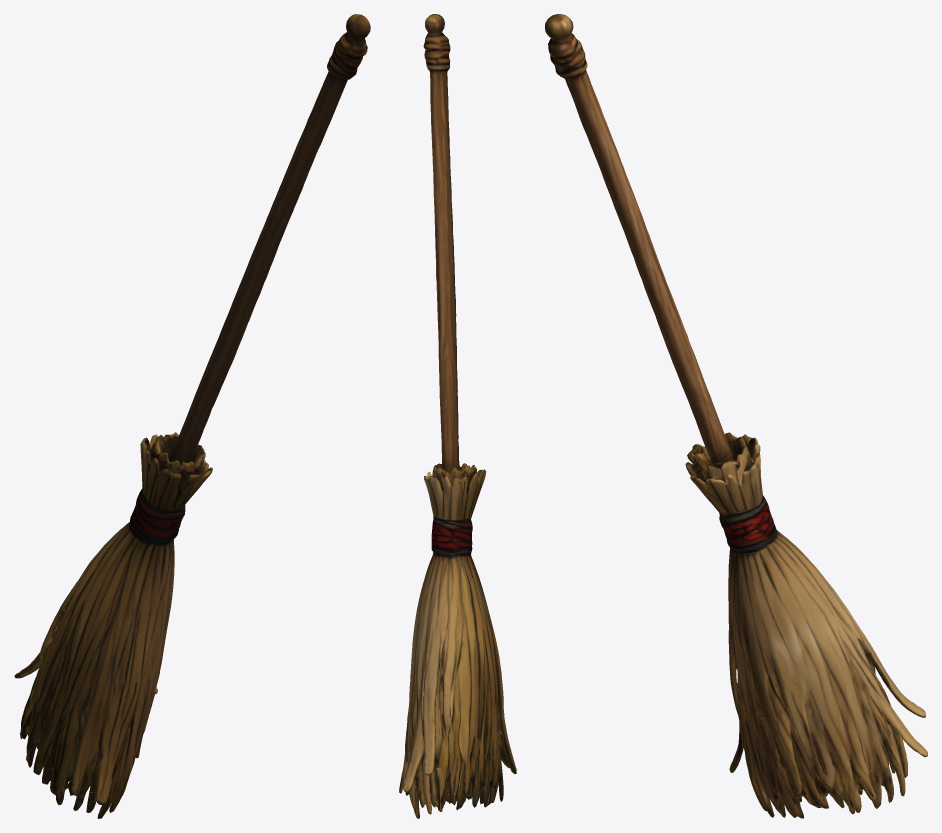
The model's file is _prop.glb.
3 renders of one model, left to right at view 1: azimuth 30°, elevation 25°; view 2: azimuth 150°, elevation 25°; view 3: azimuth 270°, elevation 25°, orthographic. The views are drawn at different scales.
Parts seen in each view (by area): view 1: tripo_node_ccb599f6-f036-4ab5-ad4c-23dc5c83a912; view 2: tripo_node_ccb599f6-f036-4ab5-ad4c-23dc5c83a912; view 3: tripo_node_ccb599f6-f036-4ab5-ad4c-23dc5c83a912.
Boxes of the visible parts, x1,y1,x2,y2 form: tripo_node_ccb599f6-f036-4ab5-ad4c-23dc5c83a912: (14, 14, 370, 818); tripo_node_ccb599f6-f036-4ab5-ad4c-23dc5c83a912: (399, 14, 516, 818); tripo_node_ccb599f6-f036-4ab5-ad4c-23dc5c83a912: (545, 14, 927, 818).
Size of the model in its own units: 0.2583 by 0.9993 by 0.3949.
1 material, 1 textured.
